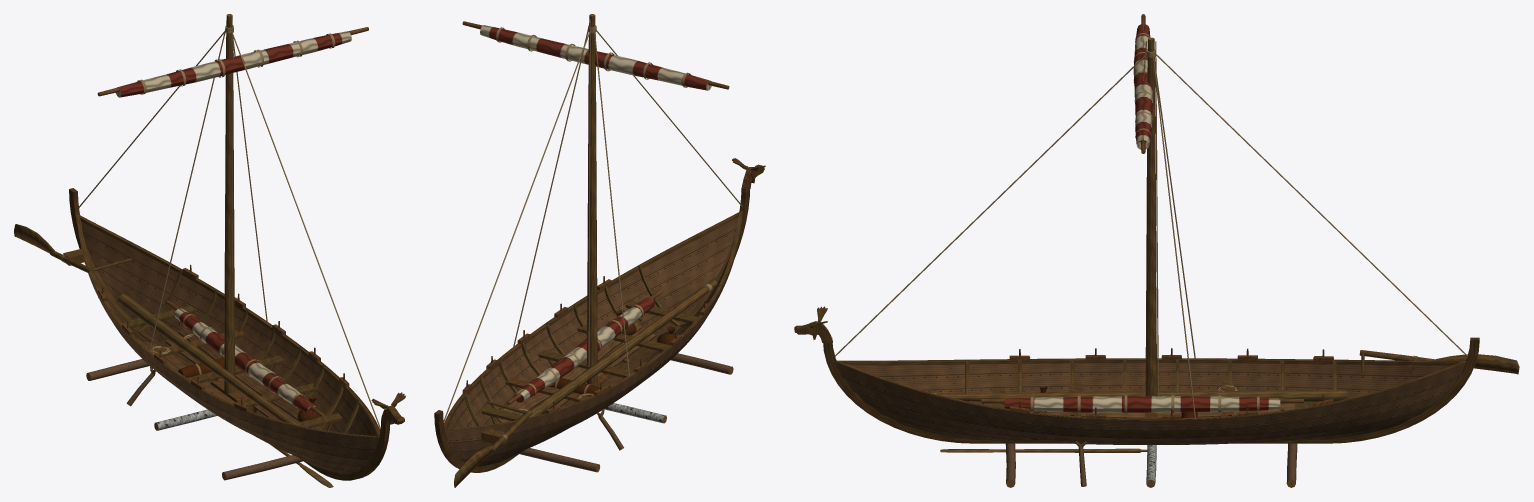
File: market_boat.glb
The picture shows the model from 3 angles, left to right: view 1: azimuth 30°, elevation 25°; view 2: azimuth 150°, elevation 25°; view 3: azimuth 270°, elevation 25°; orthographic projection. The views are drawn at different scales.
Parts seen in each view (by area): view 1: laiva, laiva_masto, laiva_masto_laskettu, laiva_telat, laiva_lasti; view 2: laiva, laiva_masto, laiva_masto_laskettu, laiva_telat, laiva_lasti; view 3: laiva, laiva_masto, laiva_masto_laskettu, laiva_telat, airo.
Part boxes in pixels (x1,y1,x2,y2): laiva: (14,188,405,480); laiva_masto: (76,14,380,429); laiva_masto_laskettu: (117,294,324,425); laiva_telat: (86,359,302,480); laiva_lasti: (178,334,319,421); laiva: (434,158,765,487); laiva_masto: (443,14,742,422); laiva_masto_laskettu: (507,280,717,420); laiva_telat: (520,353,733,472); laiva_lasti: (518,310,675,411); laiva: (794,306,1519,444); laiva_masto: (835,14,1467,418); laiva_masto_laskettu: (933,385,1347,414); laiva_telat: (1005,441,1297,487); airo: (940,448,1147,452).
Size of the model in its own units: 5.5 by 7.82 by 12.36.
7 materials, 7 textured.
